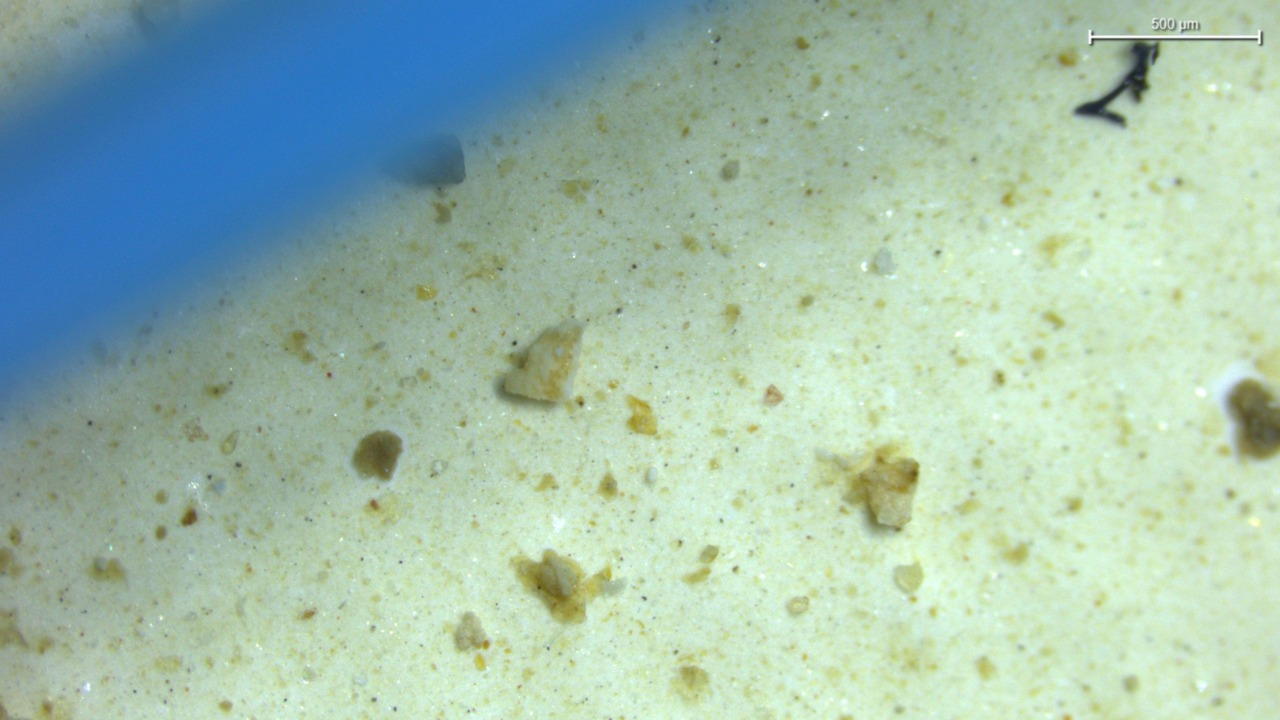microplastic_fragment: (504, 319, 583, 402), (864, 459, 919, 529), (538, 549, 580, 598)
